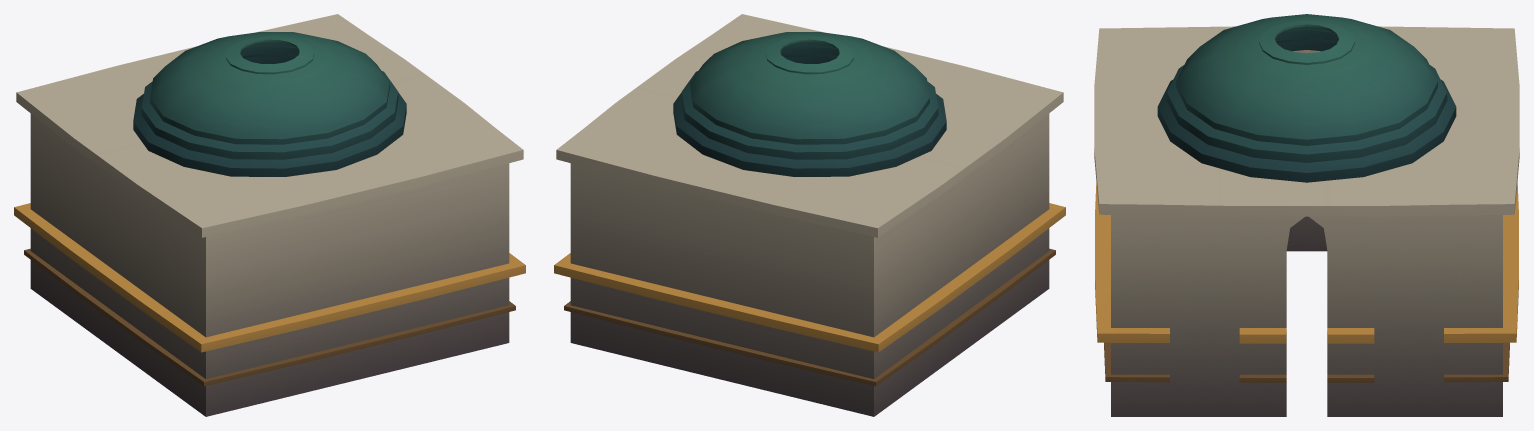
The model's file is Pantheon_Exterior.fbx.
3 views of the same model, side by side, from view 1: azimuth 30°, elevation 25°; view 2: azimuth 150°, elevation 25°; view 3: azimuth 270°, elevation 25° (orthographic). The views are drawn at different scales.
Visible parts, largest first — view 1: Pantheon_Exterior; view 2: Pantheon_Exterior; view 3: Pantheon_Exterior.
Part boxes in pixels (box(x1,y1,x2,y2)): Pantheon_Exterior: box(14, 14, 525, 416); Pantheon_Exterior: box(554, 14, 1065, 416); Pantheon_Exterior: box(1094, 14, 1519, 416).
Bounding box in the file's own units: 14542 × 11146 × 14542.
